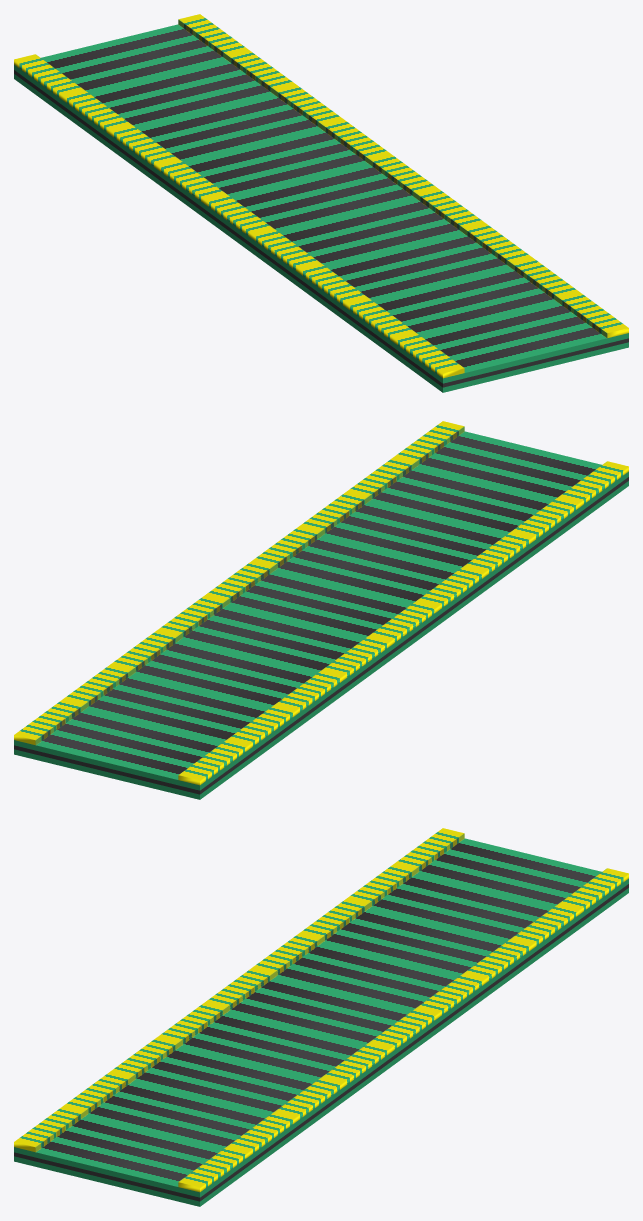
The model's file is PLF0110203.fbx.
3 renders of one model, top to bottom at view 1: azimuth 30°, elevation 25°; view 2: azimuth 150°, elevation 25°; view 3: azimuth 330°, elevation 25°, orthographic.
Visible parts, largest first — view 1: smPLF0110203; view 2: smPLF0110203; view 3: smPLF0110203.
Part boxes in pixels (x1,y1,x2,y2): smPLF0110203: [14, 14, 628, 392]; smPLF0110203: [14, 421, 628, 799]; smPLF0110203: [14, 828, 628, 1206].
Size of the model in its own units: 195 by 19.55 by 779.
Materials: 2 (2 with a texture image).
